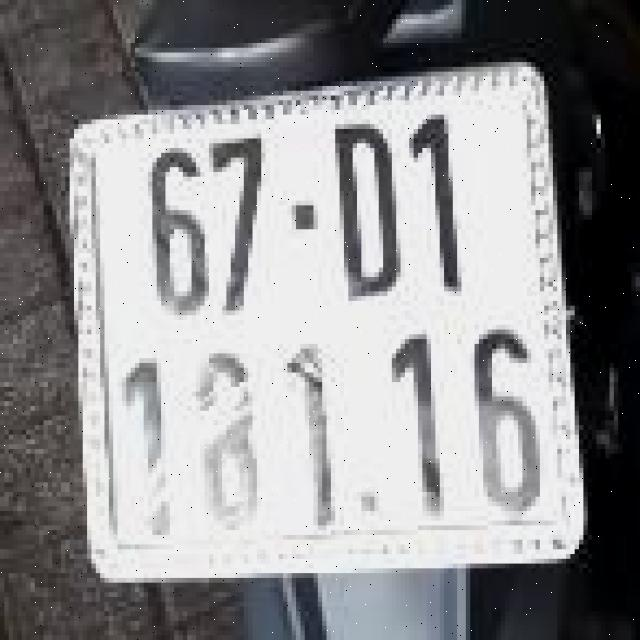1: (396, 112, 488, 308), (383, 327, 466, 533), (272, 337, 342, 547), (106, 351, 180, 547)
6: (453, 315, 557, 530), (133, 131, 207, 318)
7: (209, 129, 279, 315)
8: (187, 349, 266, 530)
D: (324, 110, 407, 301)
